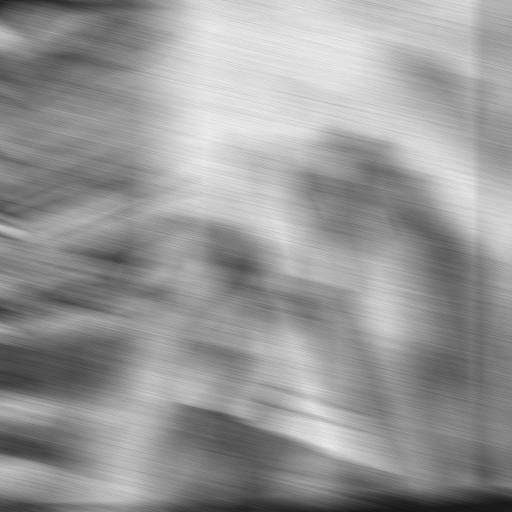bottom_right: (148, 381, 176, 402)
door: (207, 0, 414, 451)
